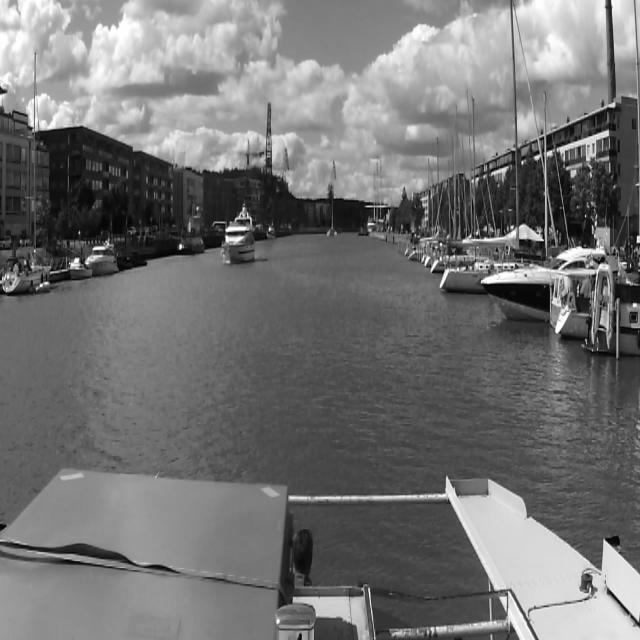ship: (492, 12, 576, 266), (0, 50, 54, 297), (480, 246, 606, 332), (221, 203, 257, 265), (86, 239, 118, 273), (67, 252, 87, 284), (326, 194, 338, 237)
